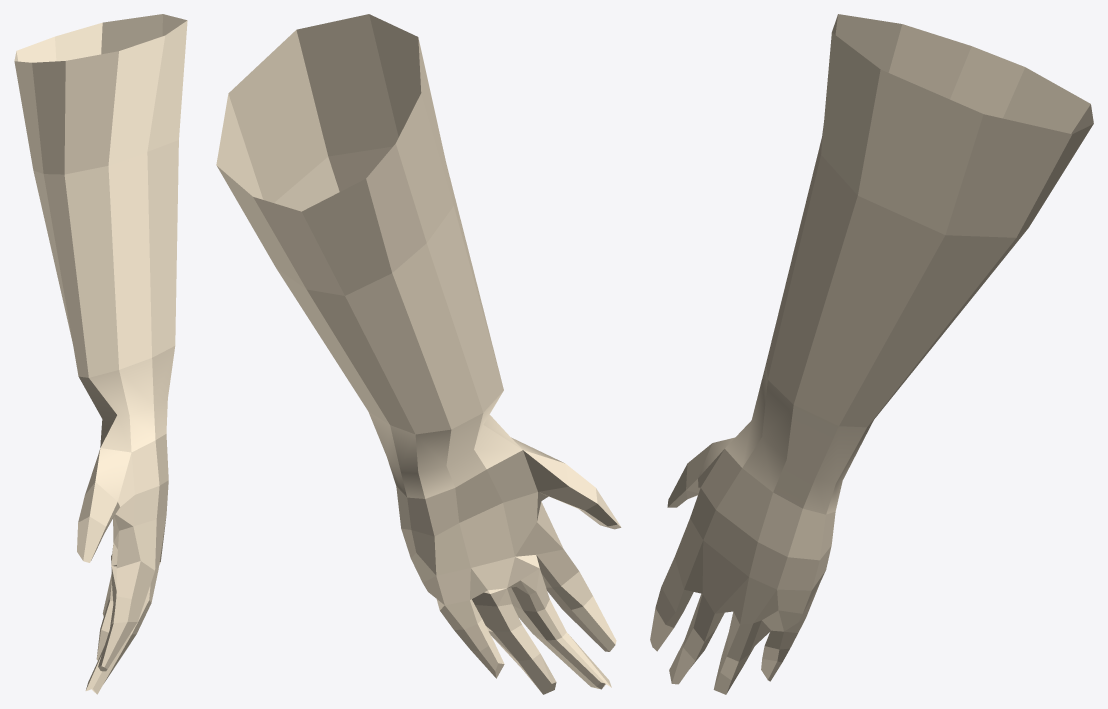
File: Bras.fbx
3 views of the same model, side by side, from view 1: azimuth 30°, elevation 25°; view 2: azimuth 150°, elevation 25°; view 3: azimuth 270°, elevation 25° (orthographic). The views are drawn at different scales.
Parts seen in each view (by area): view 1: polySurface40; view 2: polySurface40; view 3: polySurface40.
Boxes of the visible parts, x1=… form: polySurface40: x1=14, y1=14, x2=187, y2=694; polySurface40: x1=216, y1=14, x2=621, y2=694; polySurface40: x1=650, y1=14, x2=1093, y2=694.
Bounding box in the file's own units: 0.4486 × 1.21 × 0.6628.
1 material, 1 textured.
